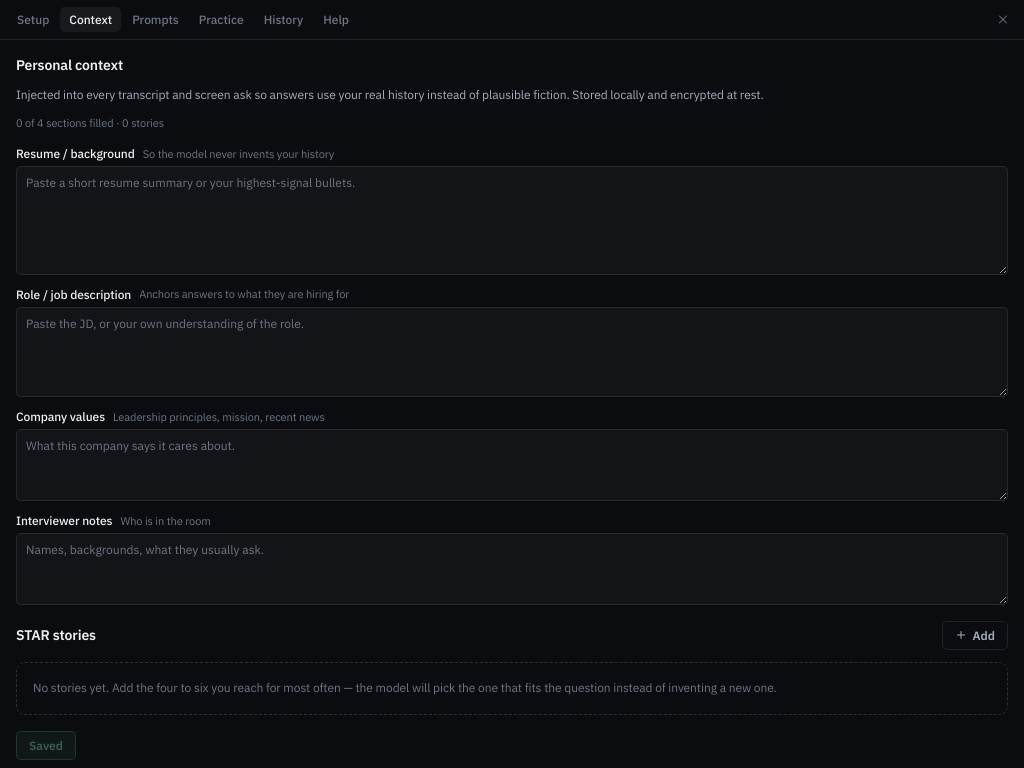
Test: Context tab › adopts the vault the main process actually stored after a save
expect the text "No stories yet" is shown: met, box [33,680,777,695]
Step 1. Type "  padded resume  " into the text box with placeholder "Paste a short resume summary" → (512, 220), box [16,166,1008,275]
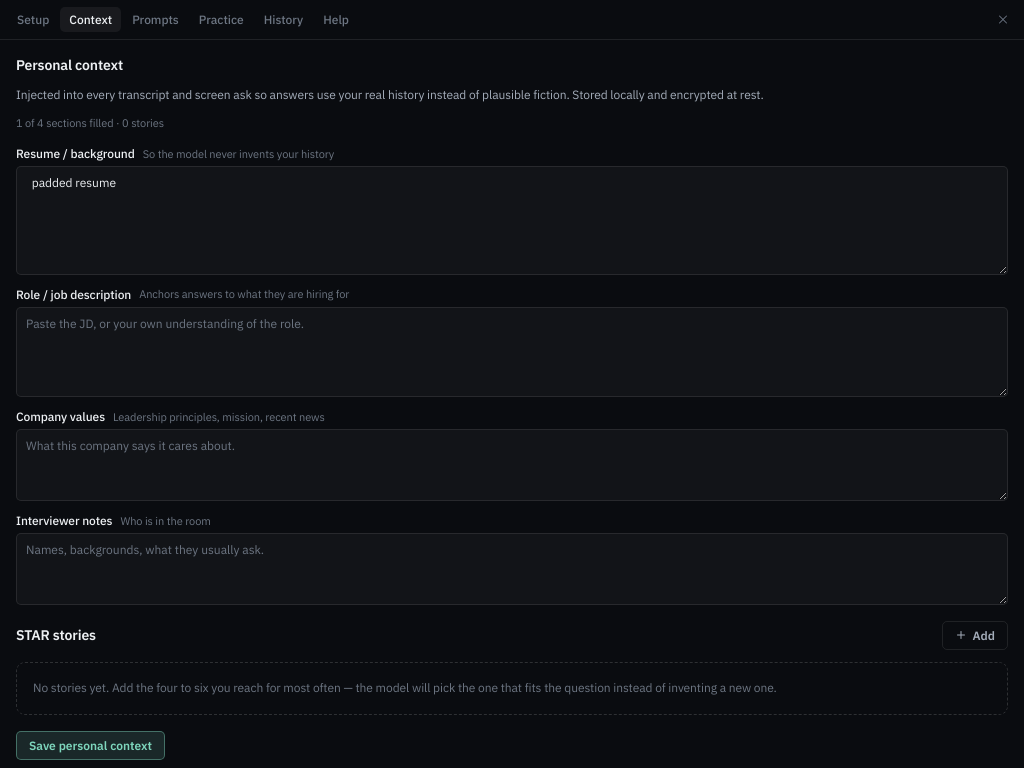
Step 2. Click the button "Save personal context" → (90, 745), box [16,730,165,760]
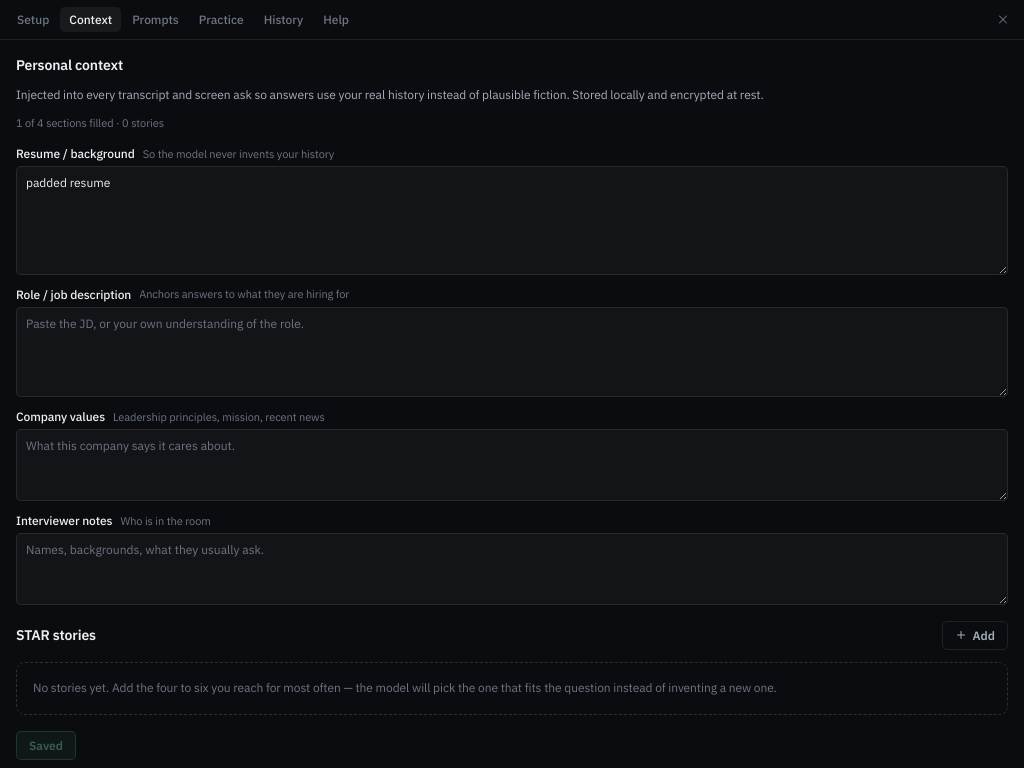
expect the button "Saved" is disabled: met, box [16,730,76,760]
